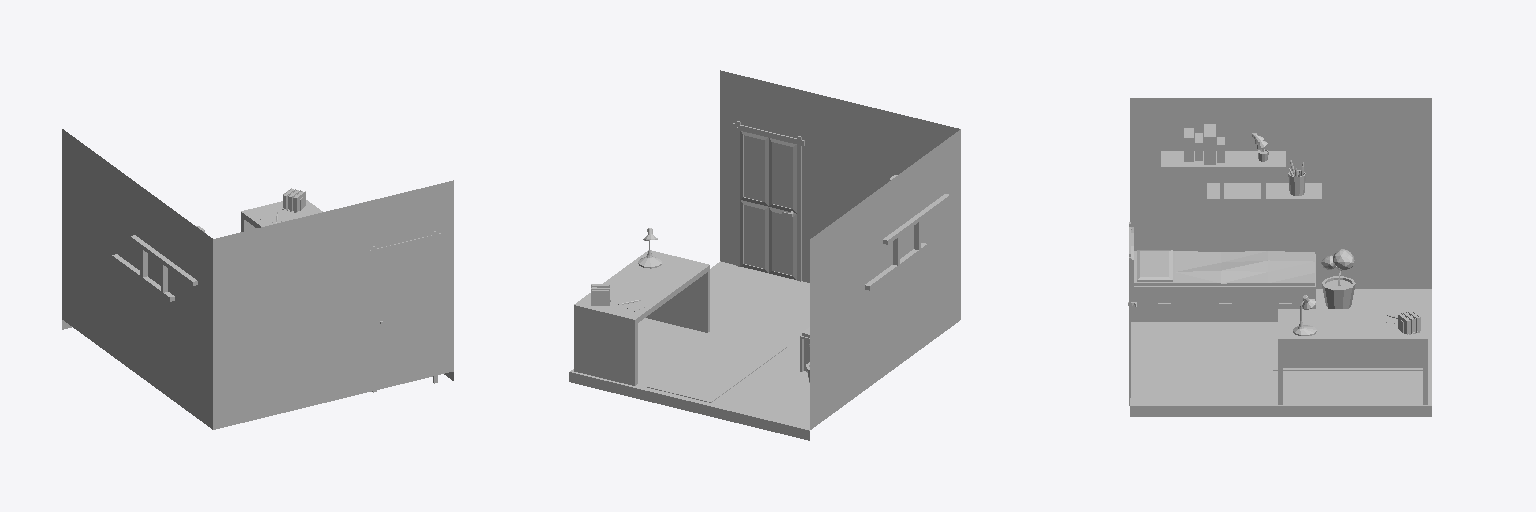
File: room1.obj
3 views of the same model, side by side, from view 1: azimuth 30°, elevation 25°; view 2: azimuth 150°, elevation 25°; view 3: azimuth 270°, elevation 25° (orthographic).
Parts seen in each view (by area): view 1: Cube_Cube.004; view 2: Cube_Cube.004; view 3: Cube_Cube.004.
Boxes of the visible parts, box(x1,y1,x2,y2) form: Cube_Cube.004: box(62, 129, 453, 429); Cube_Cube.004: box(569, 70, 960, 440); Cube_Cube.004: box(1128, 98, 1431, 416).
Bounding box in the file's own units: 8.25 × 6.46 × 8.82.